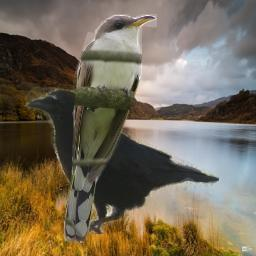Crow: (21, 85, 219, 234)
Cuckoo: (64, 14, 157, 243)
